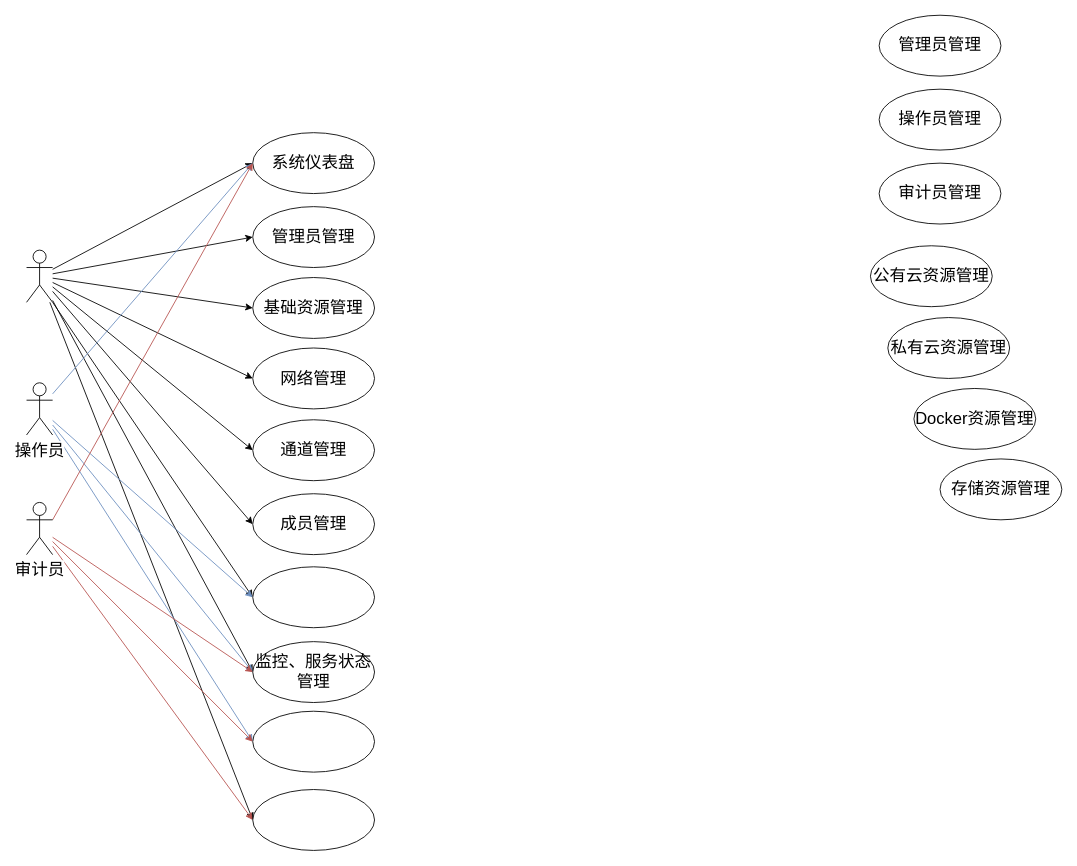
The diagram is 1077 pixels wide and 866 high, and some of its shapes have lost their labels. Each missing label, with the centre of its shape:
"智能合约管理" belongs at [313,597].
"管理员" belongs at [39,275].
"系统日志" belongs at [313,741].
"统计报表" belongs at [313,819].
